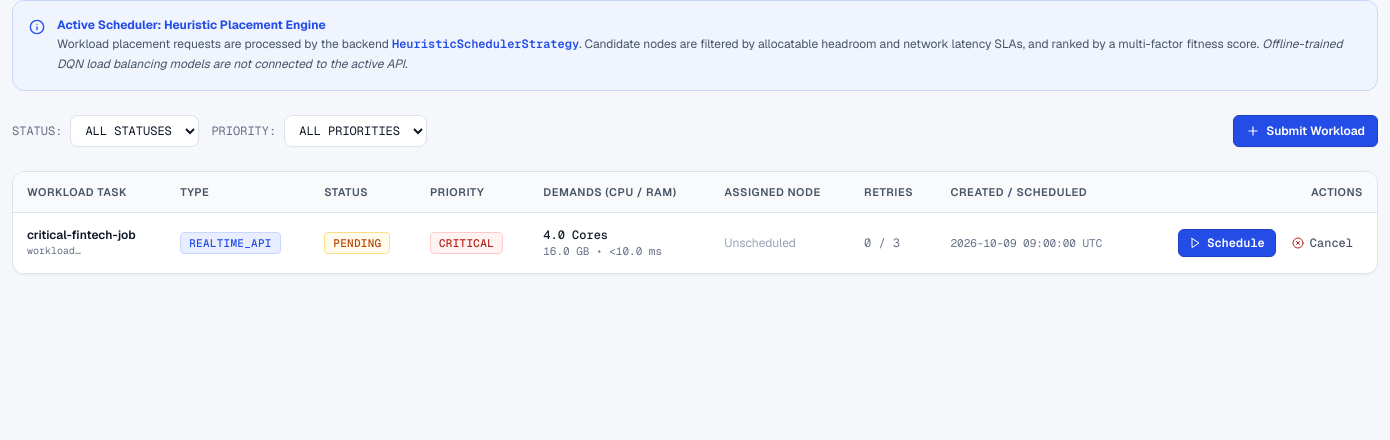
Test: Workloads Page › executes scheduling action and renders error banner if no eligible node is available
Expected: the text "critical-fintech-job" is shown, 27,226 -> 152,242
Click the button "Schedule" at (1227, 242), box 1178,228 -> 1276,256
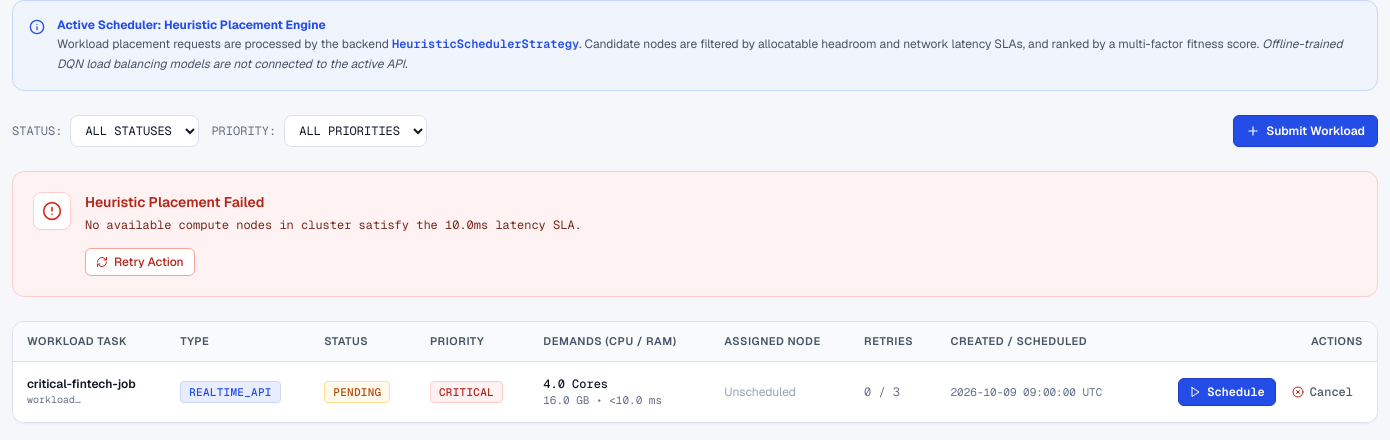
Now the heading "Heuristic Placement Failed" is shown, box 85,192 -> 264,212
Now the text "No available compute nodes in cluster satisfy the 10.0ms latency SLA" is shown, box 85,217 -> 582,233
